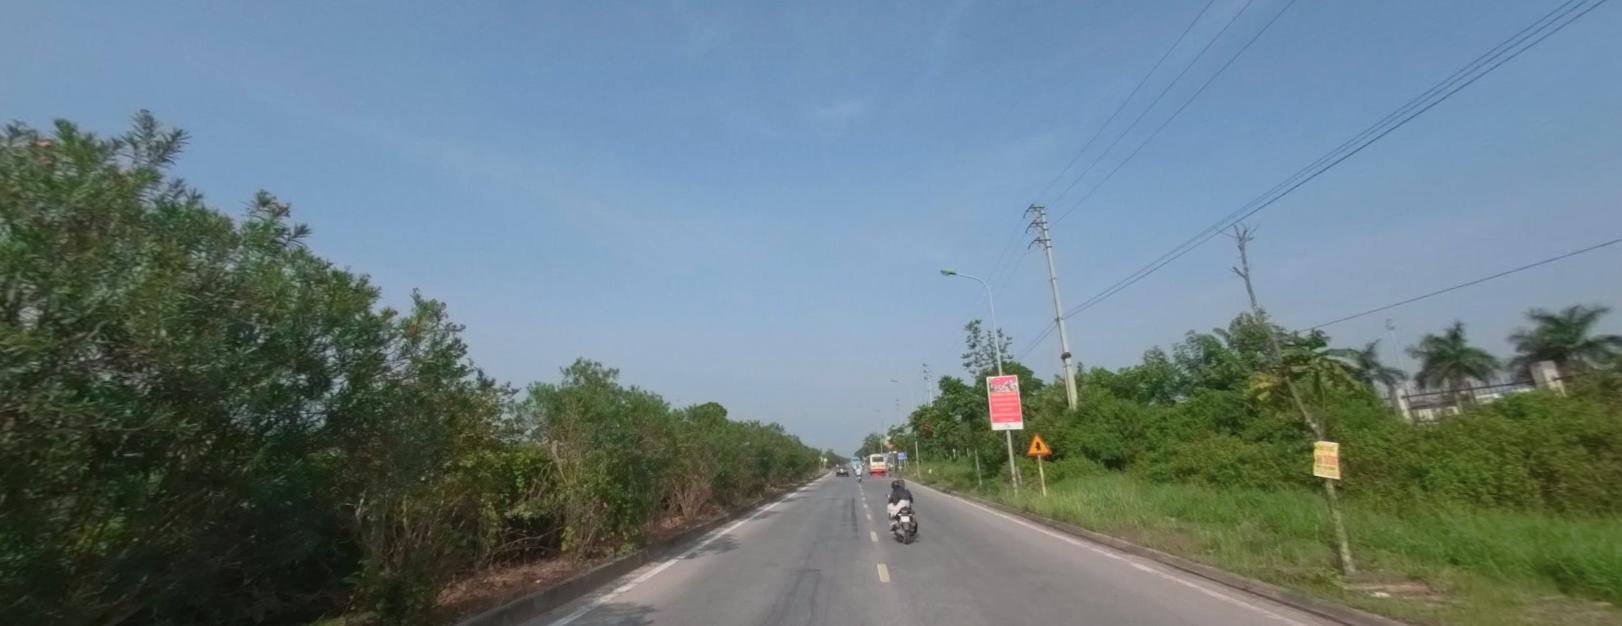Nguy hiem: (1026, 432, 1052, 454)
